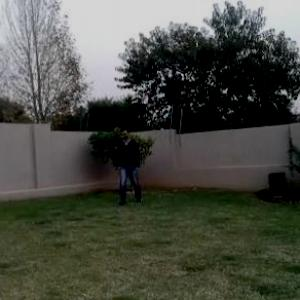follow: (116, 122, 142, 209)
